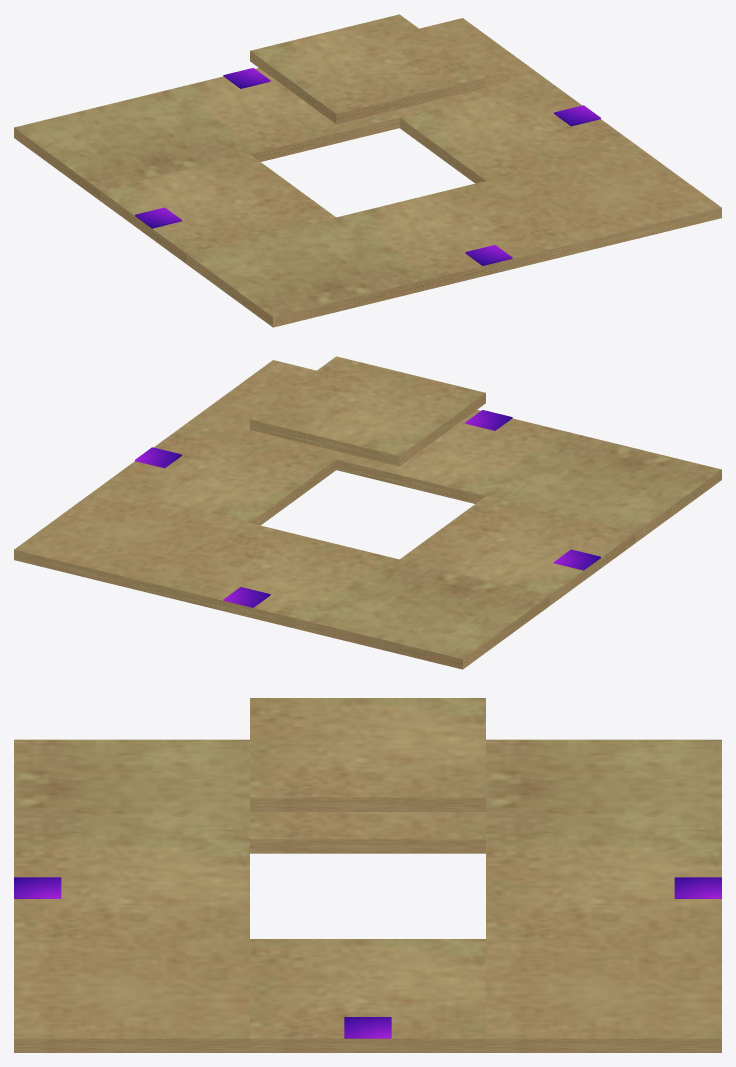
The picture shows the model from 3 angles, top to bottom: view 1: azimuth 30°, elevation 25°; view 2: azimuth 150°, elevation 25°; view 3: azimuth 270°, elevation 25°; orthographic projection. The views are drawn at different scales.
Visible parts, largest first — view 1: Cube.012, Cube.003, Cube.004, Cube.010, Cube.009, Launch.002, Launch, Launch.003, Launch.001; view 2: Cube.003, Cube.012, Cube.004, Cube.010, Cube.009, Launch.001, Launch, Launch.003, Launch.002; view 3: Cube.003, Cube.012, Cube.004, Cube.009, Cube.010, Launch.001, Launch, Launch.002.
Boxes of the visible parts, x1,y1,x2,y2 form: Cube.012: (186, 144, 721, 327); Cube.003: (14, 18, 548, 200); Cube.004: (250, 14, 485, 124); Cube.010: (100, 154, 335, 263); Cube.009: (399, 81, 635, 183); Launch.002: (465, 245, 512, 265); Launch: (554, 105, 600, 126); Launch.003: (135, 207, 181, 228); Launch.001: (223, 68, 270, 88); Cube.003: (14, 486, 549, 669); Cube.012: (187, 360, 721, 542); Cube.004: (250, 356, 485, 466); Cube.010: (400, 496, 635, 605); Cube.009: (100, 423, 336, 525); Launch.001: (223, 587, 270, 607); Launch: (135, 447, 181, 468); Launch.003: (554, 549, 600, 570); Launch.002: (465, 410, 512, 430); Cube.003: (486, 739, 721, 1052); Cube.012: (14, 739, 249, 1052); Cube.004: (250, 698, 485, 811); Cube.009: (250, 939, 485, 1052); Cube.010: (250, 812, 485, 853); Launch.001: (674, 877, 721, 898); Launch: (344, 1017, 391, 1038); Launch.002: (14, 877, 61, 898).
Bounding box in the file's own units: 45 × 10.9 × 45.
6 materials, 6 textured.
